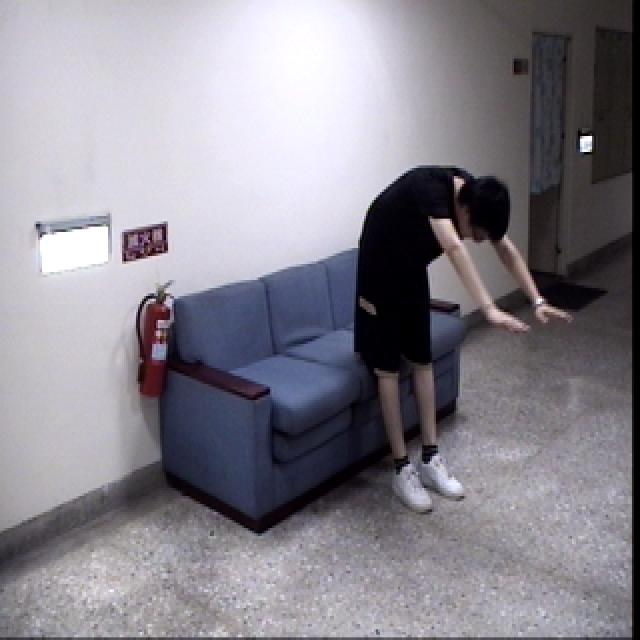bend: (349, 162, 576, 524)
